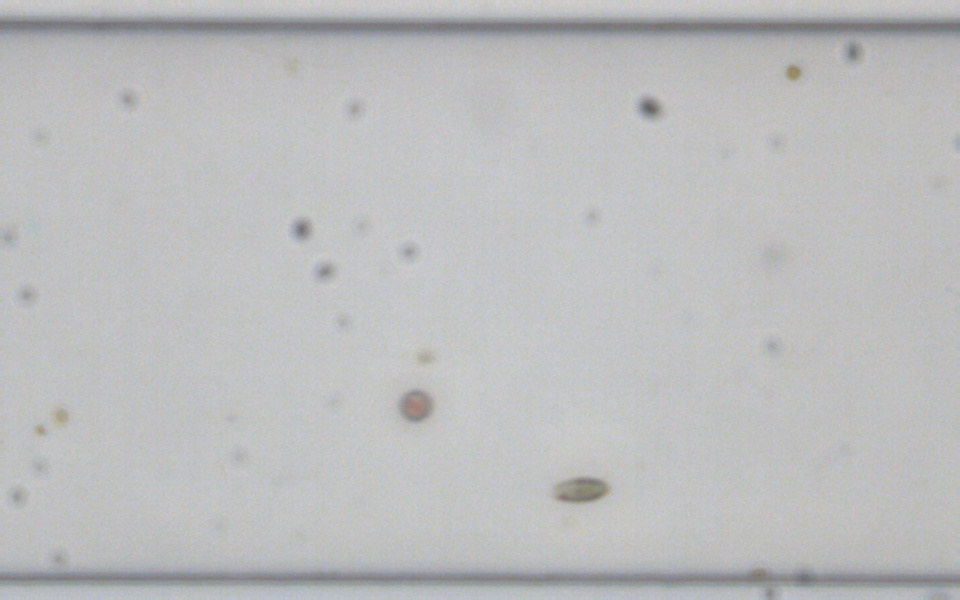Chlorella: (783, 63, 801, 79), (53, 407, 69, 423)
Dunaliella salina: (548, 473, 611, 503)
Porphyridium: (396, 386, 433, 422)
